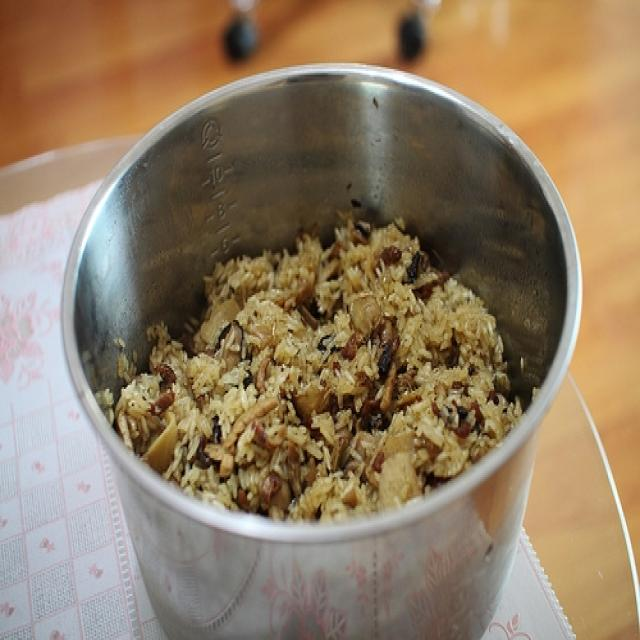米饭主食: (133, 207, 513, 525)
